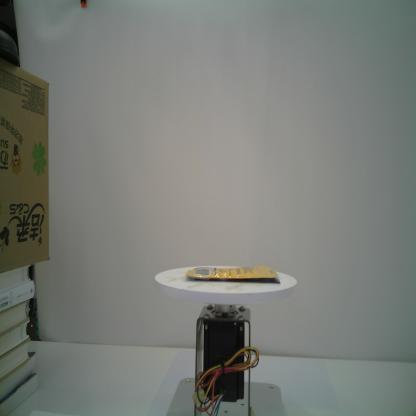Seasoner: (183, 264, 280, 284)
